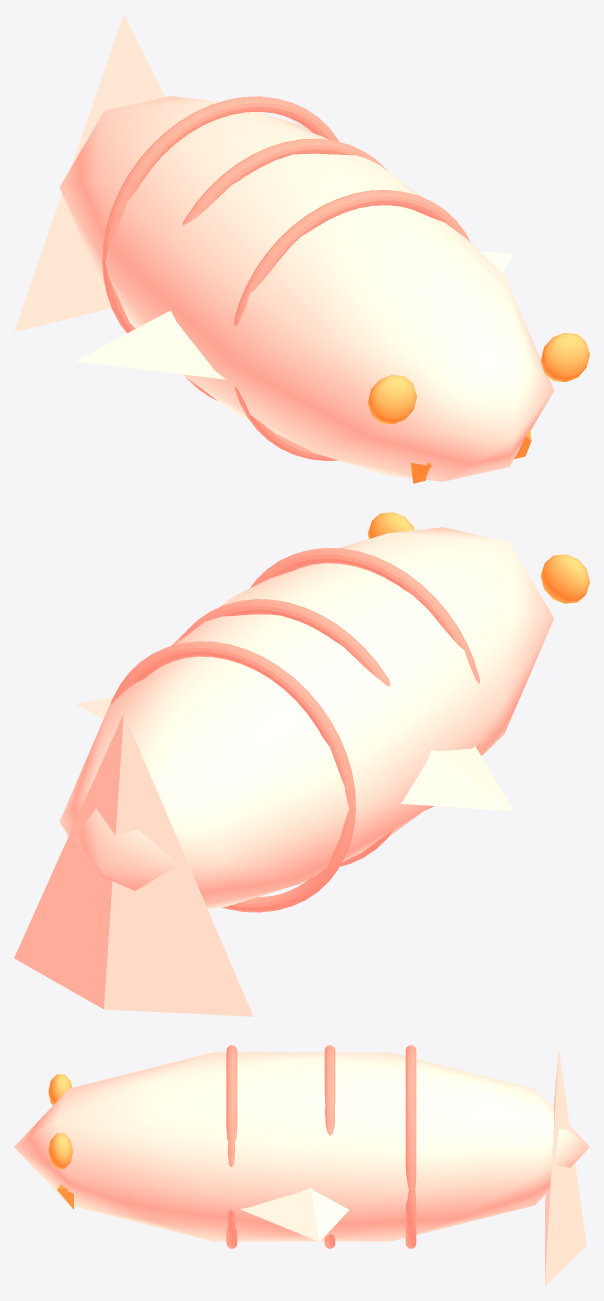
File: rift-stalker.glb
The picture shows the model from 3 angles, top to bottom: view 1: azimuth 30°, elevation 25°; view 2: azimuth 150°, elevation 25°; view 3: azimuth 270°, elevation 25°; orthographic projection. The views are drawn at different scales.
Visible parts, largest first — view 1: body, swim-tail, biolight-ring.002, biolight-ring, swim-fin--1, biolight-ring.001, eye-1, eye--1; view 2: body, swim-tail, biolight-ring.002, swim-fin--1, biolight-ring, biolight-ring.001, eye--1, eye-1; view 3: body, swim-tail, swim-fin-1, biolight-ring.002, biolight-ring, biolight-ring.001, eye-1, eye--1.
Boxes of the visible parts, left/top/right/bottom form: body: left=59, top=96, right=553, bottom=481; swim-tail: left=14, top=14, right=164, bottom=331; biolight-ring.002: left=102, top=96, right=339, bottom=333; biolight-ring: left=234, top=190, right=470, bottom=460; swim-fin--1: left=75, top=310, right=225, bottom=379; biolight-ring.001: left=183, top=138, right=387, bottom=400; eye-1: left=540, top=333, right=589, bottom=381; eye--1: left=368, top=375, right=416, bottom=424; body: left=59, top=527, right=553, bottom=908; swim-tail: left=14, top=713, right=253, bottom=1016; biolight-ring.002: left=110, top=641, right=355, bottom=912; swim-fin--1: left=400, top=746, right=513, bottom=810; biolight-ring: left=250, top=548, right=479, bottom=810; biolight-ring.001: left=179, top=599, right=393, bottom=866; eye--1: left=540, top=554, right=589, bottom=603; eye-1: left=367, top=512, right=414, bottom=538; body: left=14, top=1052, right=589, bottom=1241; swim-tail: left=545, top=1049, right=586, bottom=1286; swim-fin-1: left=240, top=1188, right=349, bottom=1241; biolight-ring.002: left=405, top=1045, right=416, bottom=1248; biolight-ring: left=226, top=1045, right=237, bottom=1248; biolight-ring.001: left=324, top=1045, right=335, bottom=1248; eye-1: left=48, top=1133, right=72, bottom=1168; eye--1: left=48, top=1074, right=71, bottom=1104.
Bounding box in the file's own units: 2.29 × 1.4 × 3.7.
